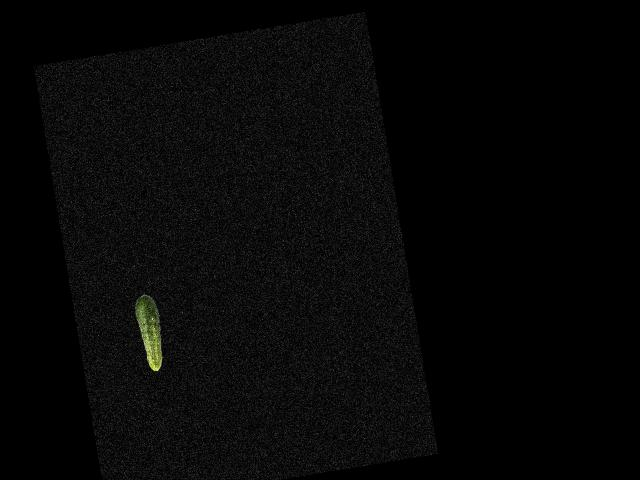cucumber: (133, 292, 168, 372)
